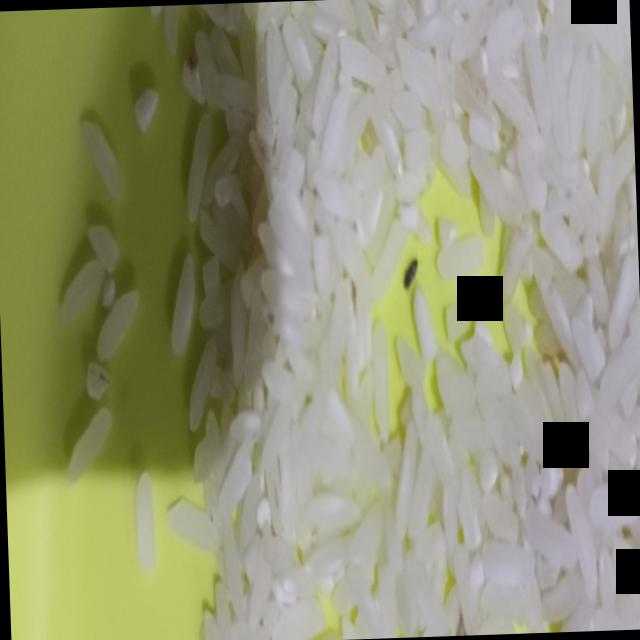Kutu_beras: (402, 249, 419, 292)
